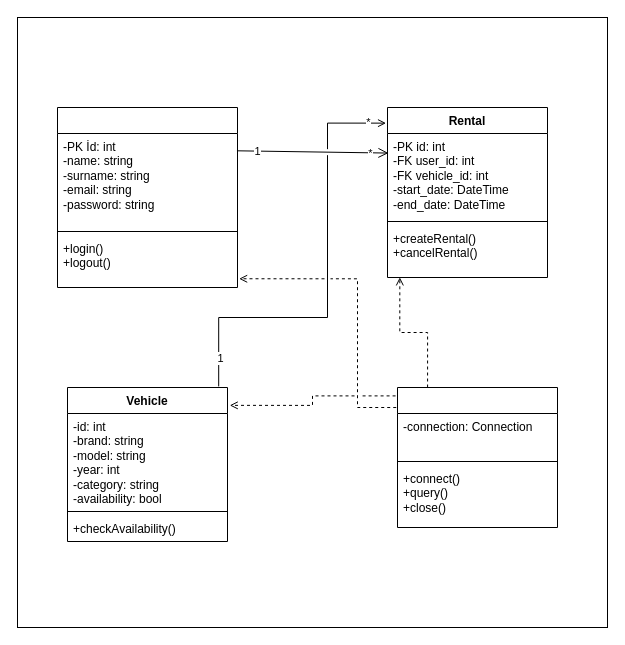
Image size: 625x645. Some labels were removed from this diagram. Each missing label, with the box of its shape:
Database: (396, 386, 558, 528)
User: (56, 106, 238, 288)
